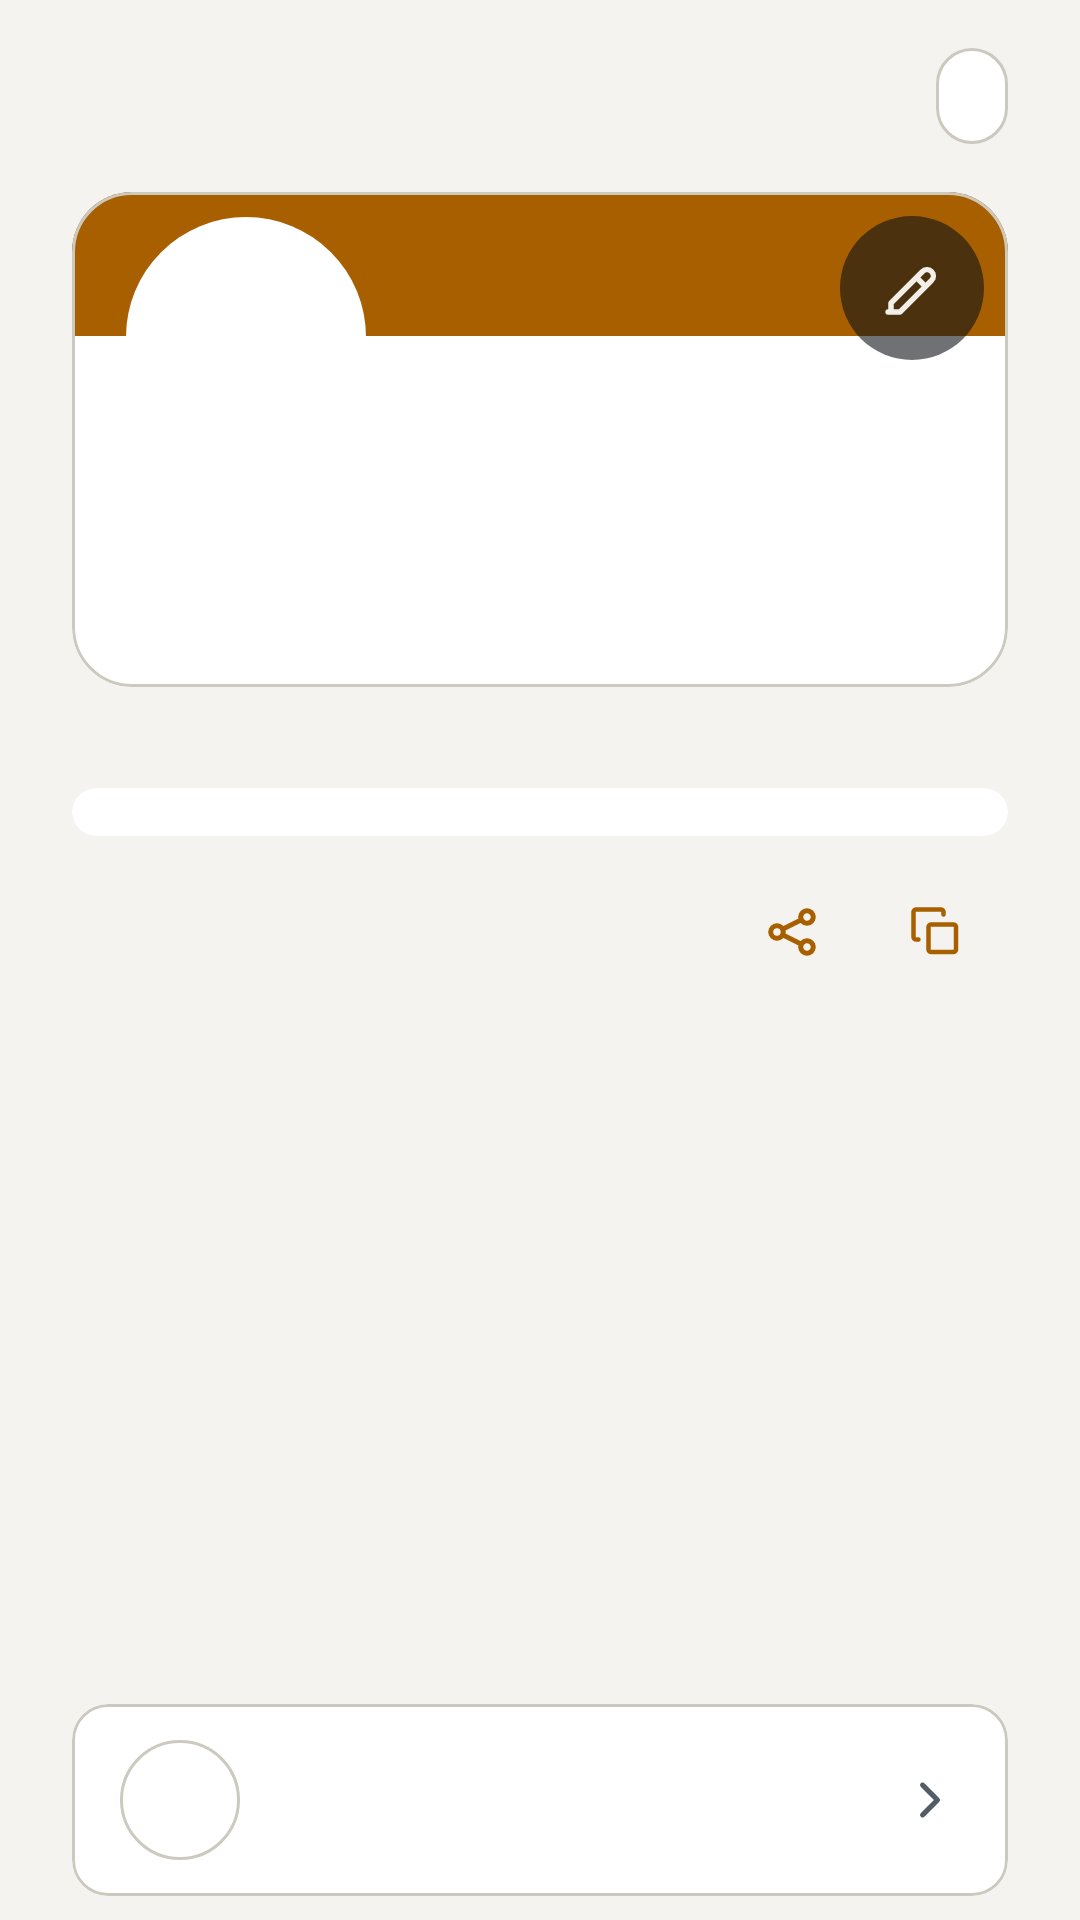

Icon click points for this 1080x1920 phone screenshot, format point (x, y):
chevron: point (930, 1800)
Copy link: point (935, 931)
Edit card: point (912, 288)
